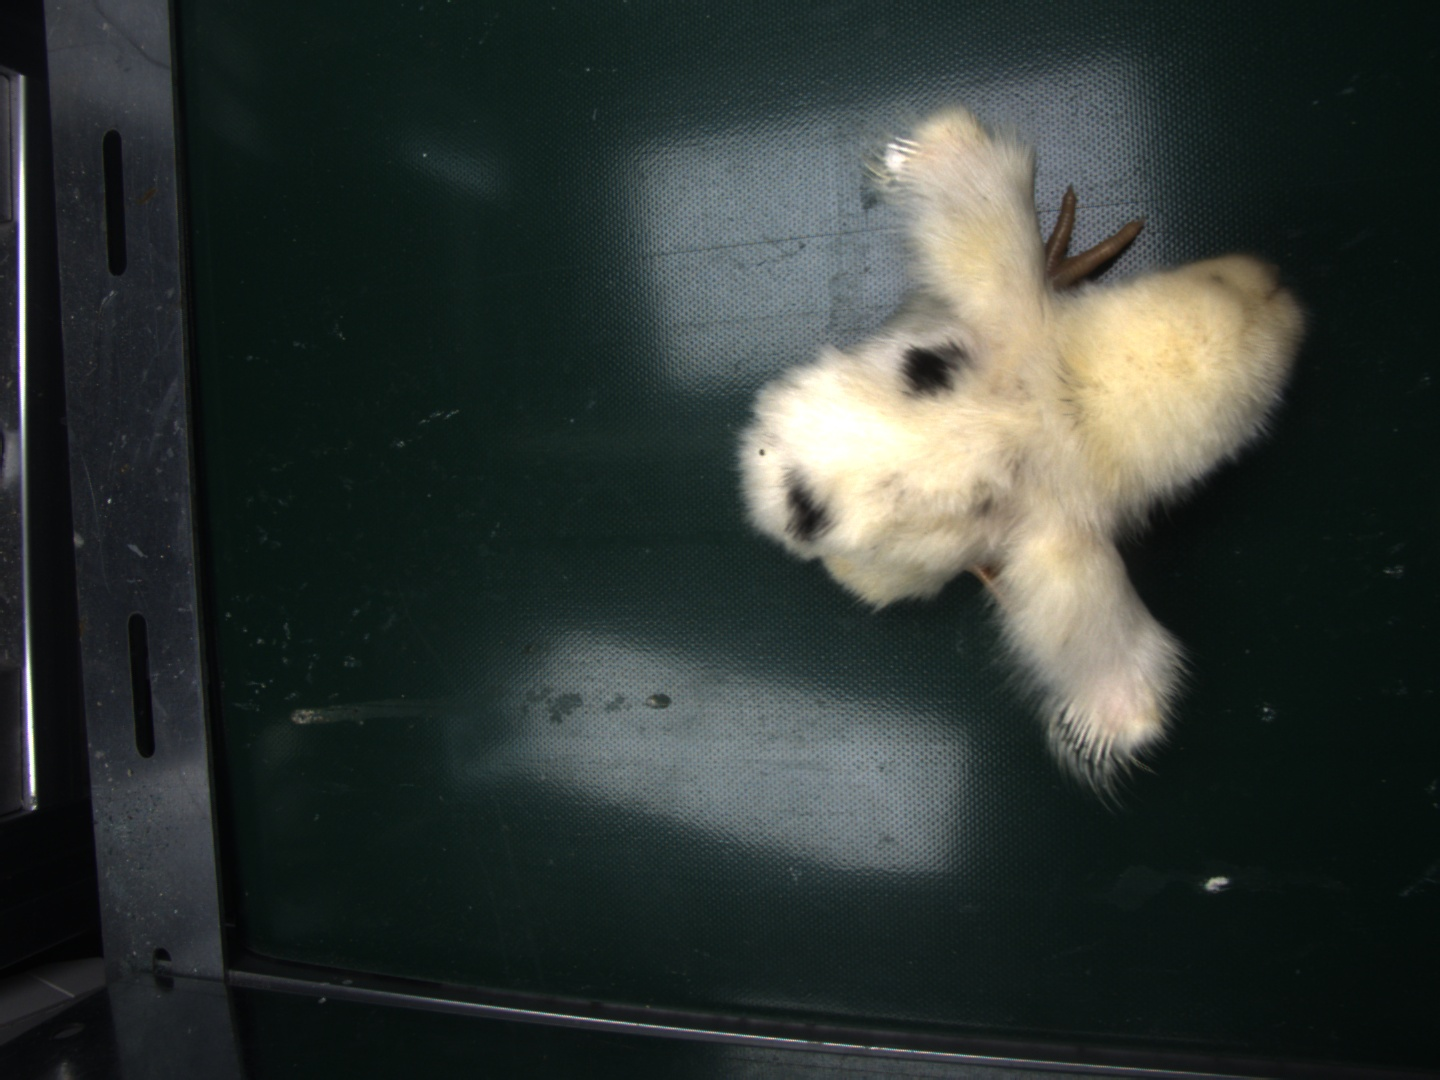male: (1054, 699, 1127, 763)
